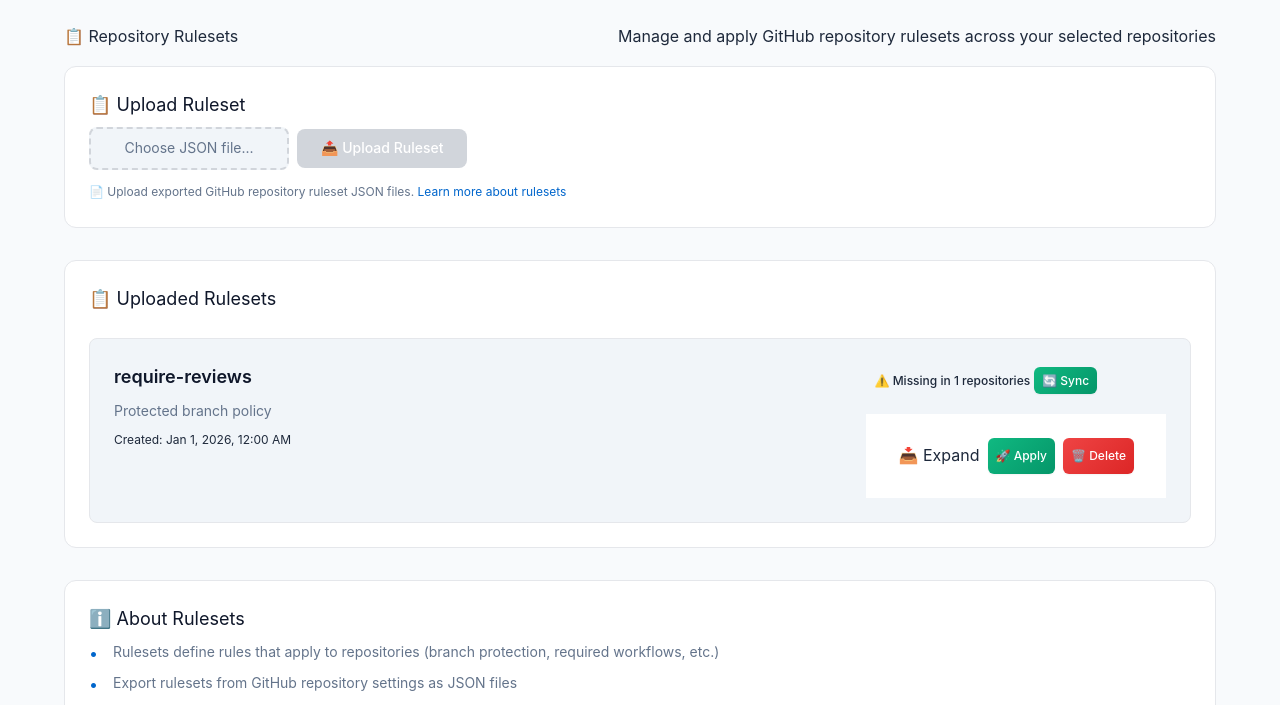
Scenario: RulesetManager ruleset sync › updates the panel after syncing, without a refresh
The width and height of the screenshot is (1280, 705).
Expected: the heading "require-reviews" is shown, [114, 366, 252, 387]
Expected: the text "⚠️ Missing in 1 repositories" is shown, [874, 371, 1030, 390]
Click the button titled "Sync ruleset to missing repositories" at (1066, 381), box [1034, 367, 1097, 394]
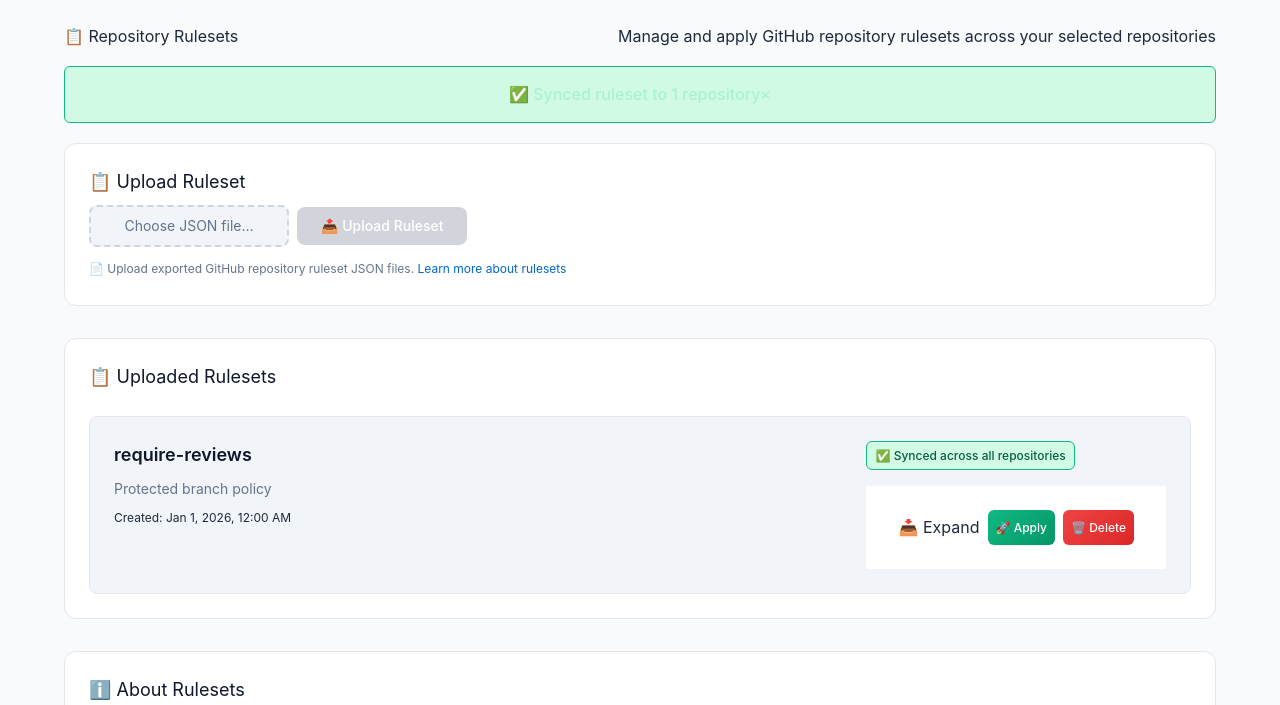
Expected: the text "✅ Synced across all repositories" is shown, [876, 446, 1066, 465]
